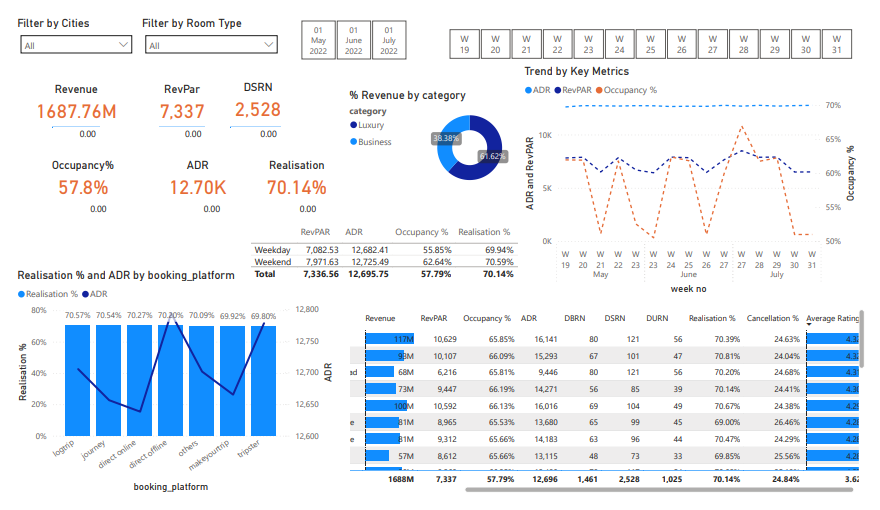

The page's visual inventory and layout, read from the dashboard file:
{"tool":"powerbi","page":{"name":"Page 1","canvas":[1280,720],"ordinal":0},"visuals":[{"type":"tableEx","fields":{"Values":["Key_measures (2).ADR WoW change %"]},"box":[238.1,246.4,81.2,59.2],"z":0},{"type":"tableEx","fields":{"Values":["Key_measures (2).Occupancy WoW change %"]},"box":[56.4,246.4,93.6,59.2],"z":1000},{"type":"tableEx","fields":{"Values":["Key_measures (2).DSRN WoW change %"]},"box":[319.3,133.5,85.3,64.7],"z":2000},{"type":"tableEx","fields":{"Values":["Key_measures (2).Revenue WoW change %"]},"box":[212,133.5,79.8,59.2],"z":3000},{"type":"tableEx","fields":{"Values":["dim_hotels.property_id","dim_hotels.property_name","dim_hotels.city","Key_measures (2).Revenue","Key_measures (2).RevPAR","Key_measures (2).Occupancy %","Key_measures (2).ADR","Key_measures (2).DBRN","Key_measures (2).DSRN","Key_measures (2).DURN","Key_measures (2).Realisation %","Key_measures (2).Cancellation %"]},"box":[498.3,435,781.7,285],"z":4000},{"type":"slicer","title":"Filter by Cities","fields":{"Values":["dim_hotels.city"]},"box":[0,0,187.1,70.7],"z":5000},{"type":"slicer","title":"Filter by Room Type","fields":{"Values":["dim_rooms.room_class"]},"box":[187.1,0,218,89.9],"z":6000},{"type":"slicer","fields":{"Values":["dim_date.mmm yy"]},"box":[405,0,206.7,70],"z":7000},{"type":"slicer","fields":{"Values":["dim_date.week no"]},"box":[627.5,13.3,652.5,57.4],"z":8000},{"type":"tableEx","fields":{"Values":["Key_measures (2).Revenue WoW change %"]},"box":[52.3,133.5,81.2,59.2],"z":9000},{"type":"card","title":"Revenue","fields":{"Values":["Key_measures (2).Revenue"]},"box":[19.3,99.1,148.6,64.7],"z":10000},{"type":"donutChart","title":"% Revenue by category","fields":{"Category":["dim_hotels.category"],"Y":["Key_measures (2).Revenue"]},"box":[498.2,108.7,295.9,158.3],"z":11000},{"type":"card","title":"DSRN","fields":{"Values":["Key_measures (2).DSRN"]},"box":[291.8,96.3,148.6,64.7],"z":12000},{"type":"card","title":"RevPar","fields":{"Values":["Key_measures (2).RevPAR"]},"box":[177.5,99.1,148.6,64.7],"z":13000},{"type":"card","title":"Occupancy%","fields":{"Values":["Key_measures (2).Occupancy %"]},"box":[28.9,213.3,148.6,64.7],"z":14000},{"type":"card","title":"ADR","fields":{"Values":["Key_measures (2).ADR"]},"box":[200.9,213.3,148.6,64.7],"z":15000},{"type":"tableEx","fields":{"Values":["Key_measures (2).Realisation WoW change %"]},"box":[384,246.4,79.8,57.8],"z":16000},{"type":"card","title":"Realisation","fields":{"Values":["Key_measures (2).Realisation %"]},"box":[349.6,213.3,148.6,64.7],"z":17000},{"type":"lineChart","title":"Trend by Key Metrics","fields":{"Category":["dim_date.mmm yy.Variation.Date Hierarchy.Month","dim_date.week no"],"Y":["Key_measures (2).ADR","Key_measures (2).RevPAR"],"Y2":["Key_measures (2).Occupancy %"]},"box":[759.7,71.6,506.5,351],"z":18000},{"type":"lineStackedColumnComboChart","fields":{"Category":["fact_bookings.booking_platform"],"Y":["Key_measures (2).Realisation %"],"Y2":["Key_measures (2).ADR"]},"box":[0,378.3,483.3,341.7],"z":19000},{"type":"tableEx","fields":{"Values":["dim_date.day_type","Key_measures (2).RevPAR","Key_measures (2).ADR","Key_measures (2).Occupancy %","Key_measures (2).Realisation %"]},"box":[350,310,411.7,100],"z":20000}]}

Visuals, with their boxes in screenshot pixels (x1, y1, x2, y2), scaled from the page's 1280x720 canvas onto the 880x510 screenshot:
tableEx - Key_measures (2).ADR WoW change %: [left=164, top=175, right=220, bottom=216]
tableEx - Key_measures (2).Occupancy WoW change %: [left=39, top=175, right=103, bottom=216]
tableEx - Key_measures (2).DSRN WoW change %: [left=220, top=95, right=278, bottom=140]
tableEx - Key_measures (2).Revenue WoW change %: [left=146, top=95, right=201, bottom=136]
tableEx - dim_hotels.property_id x dim_hotels.property_name: [left=343, top=308, right=879, bottom=509]
"Filter by Cities" slicer: [left=0, top=0, right=129, bottom=50]
"Filter by Room Type" slicer: [left=129, top=0, right=279, bottom=64]
slicer - dim_date.mmm yy: [left=278, top=0, right=421, bottom=50]
slicer - dim_date.week no: [left=431, top=9, right=879, bottom=50]
tableEx - Key_measures (2).Revenue WoW change %: [left=36, top=95, right=92, bottom=136]
"Revenue" card: [left=13, top=70, right=115, bottom=116]
"% Revenue by category" donutChart: [left=343, top=77, right=546, bottom=189]
"DSRN" card: [left=201, top=68, right=303, bottom=114]
"RevPar" card: [left=122, top=70, right=224, bottom=116]
"Occupancy%" card: [left=20, top=151, right=122, bottom=197]
"ADR" card: [left=138, top=151, right=240, bottom=197]
tableEx - Key_measures (2).Realisation WoW change %: [left=264, top=175, right=319, bottom=215]
"Realisation" card: [left=240, top=151, right=343, bottom=197]
"Trend by Key Metrics" lineChart: [left=522, top=51, right=871, bottom=299]
lineStackedColumnComboChart - fact_bookings.booking_platform x Key_measures (2).Realisation %: [left=0, top=268, right=332, bottom=509]
tableEx - dim_date.day_type x Key_measures (2).RevPAR: [left=241, top=220, right=524, bottom=290]
